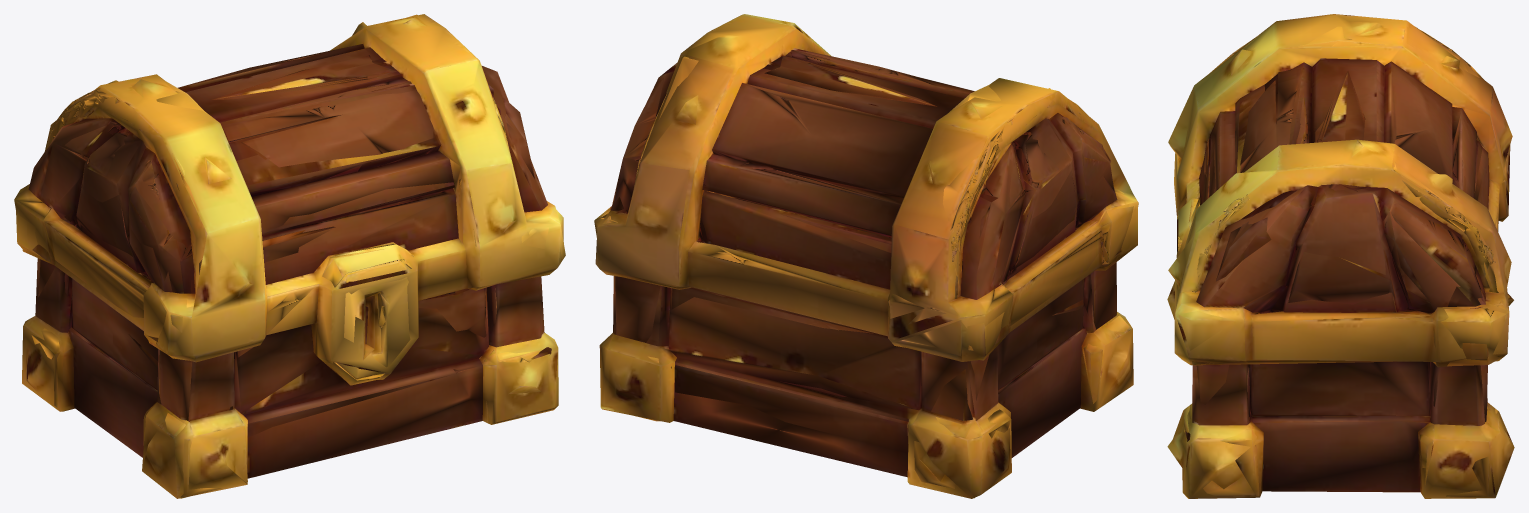
The model's file is chest_closed.glb.
The picture shows the model from 3 angles, left to right: view 1: azimuth 30°, elevation 25°; view 2: azimuth 150°, elevation 25°; view 3: azimuth 270°, elevation 25°; orthographic projection. The views are drawn at different scales.
Visible parts, largest first — view 1: Mesh_0; view 2: Mesh_0; view 3: Mesh_0.
Boxes of the visible parts, x1,y1,x2,y2 form: Mesh_0: (14,14,565,498); Mesh_0: (594,14,1138,498); Mesh_0: (1167,14,1514,498).
Size of the model in its own units: 0.932 by 0.7457 by 0.7137.
Materials: 1 (1 with a texture image).
